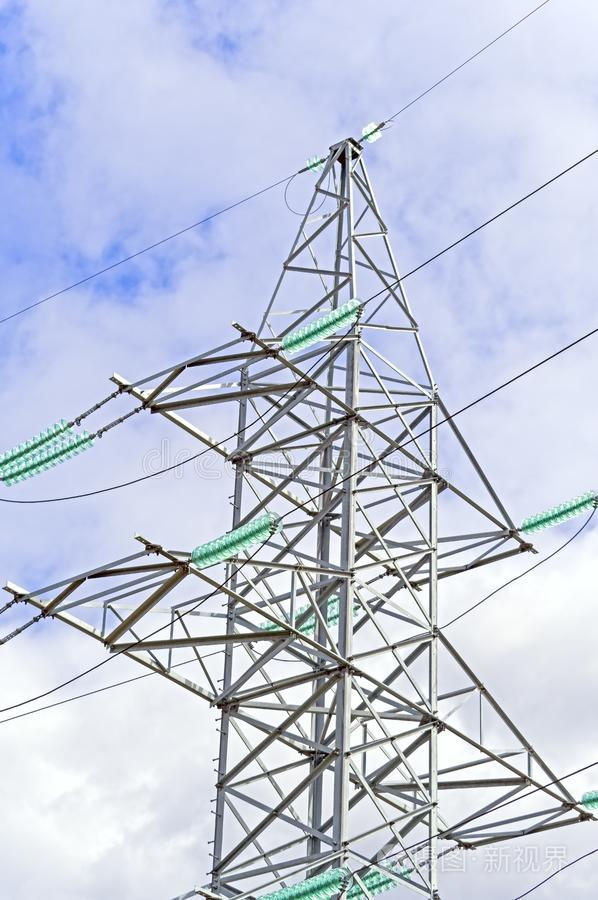insulator: (3, 415, 90, 487), (275, 301, 366, 357), (192, 510, 277, 562), (520, 492, 598, 534), (267, 868, 353, 900), (349, 861, 417, 897)
